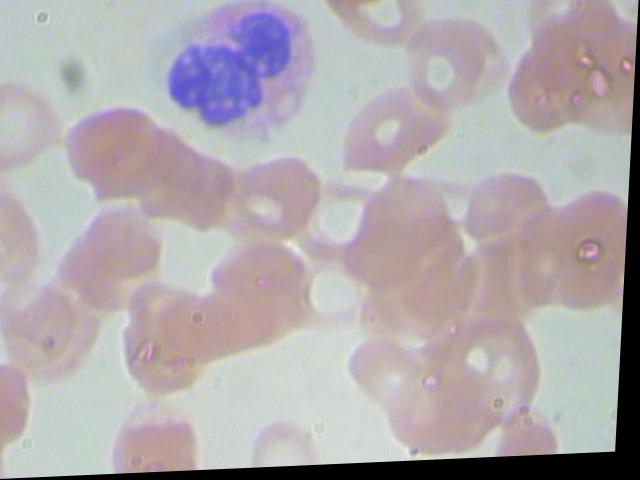Red Blood Cells: (440, 304, 560, 431), (502, 23, 621, 150), (325, 83, 469, 185), (537, 191, 630, 321), (405, 8, 509, 111), (206, 228, 322, 317), (130, 144, 224, 235), (111, 124, 205, 215), (59, 104, 153, 195), (0, 71, 76, 183), (465, 169, 558, 260), (236, 150, 329, 241), (177, 153, 270, 244), (296, 175, 389, 266), (295, 245, 388, 336), (0, 273, 88, 364), (345, 329, 437, 410), (0, 179, 61, 288), (522, 0, 619, 68), (318, 0, 430, 53), (244, 412, 337, 470)
White Blood Cells: (152, 0, 338, 160)
